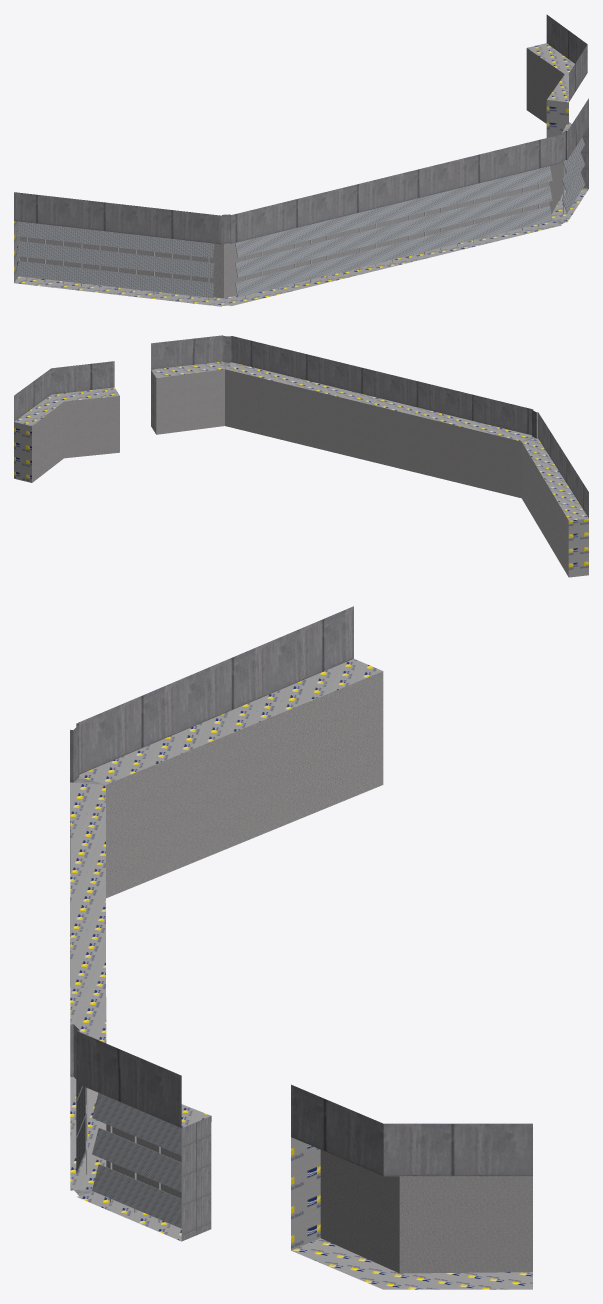
The model's file is env_buildingIntelsatFront01.FBX.
3 renders of one model, top to bottom at view 1: azimuth 30°, elevation 25°; view 2: azimuth 150°, elevation 25°; view 3: azimuth 270°, elevation 25°, orthographic. The views are drawn at different scales.
Visible parts, largest first — view 1: env_buildingIntelsatFront01; view 2: env_buildingIntelsatFront01; view 3: env_buildingIntelsatFront01.
Boxes of the visible parts, x1=… form: env_buildingIntelsatFront01: x1=14, y1=14, x2=588, y2=306; env_buildingIntelsatFront01: x1=14, y1=335, x2=588, y2=577; env_buildingIntelsatFront01: x1=70, y1=606, x2=532, y2=1289.
Size of the model in its own units: 26.77 by 4.01 by 10.12.
